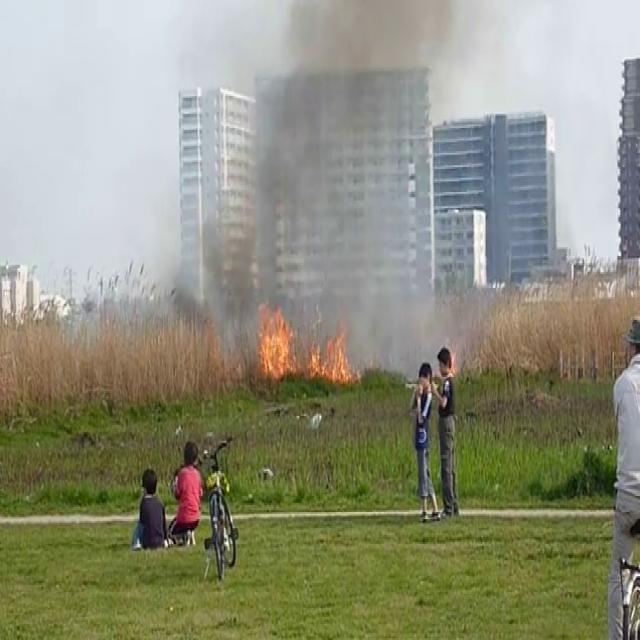Fire: (252, 290, 299, 388), (312, 320, 356, 391)
Smoke: (233, 0, 444, 356)
